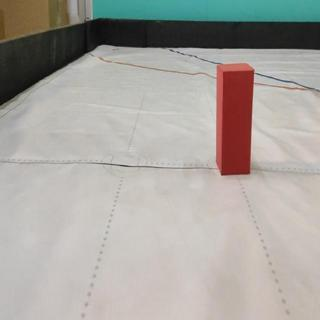redbox: (215, 62, 254, 175)
